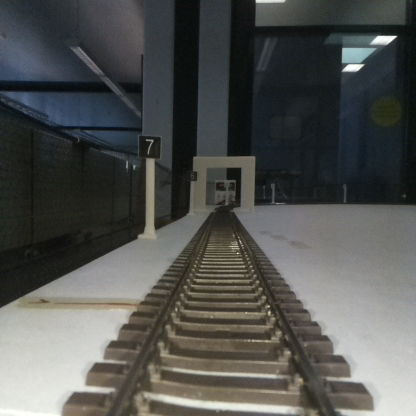black-info-6: (187, 170, 196, 214)
black-info-7: (137, 135, 160, 237)
